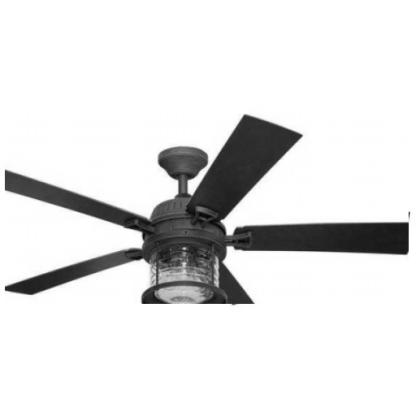ceiling-fan: (5, 113, 409, 304)
